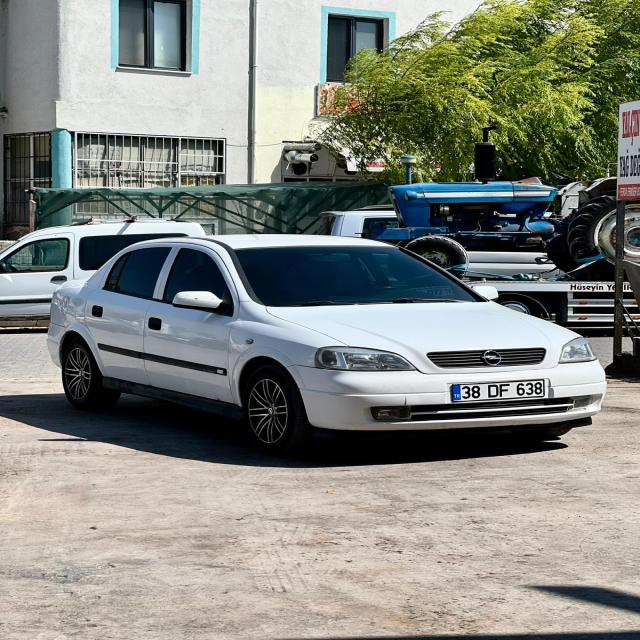opel: (478, 349, 504, 367)
